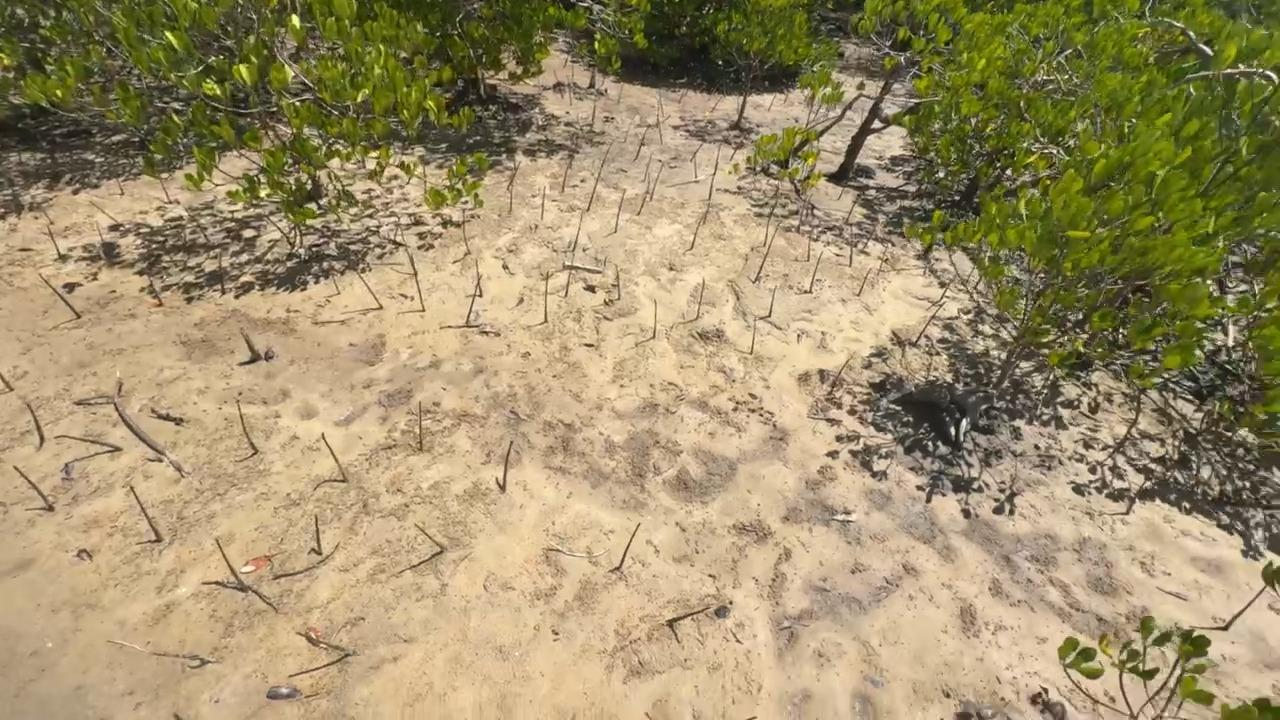Tree: (225, 173, 292, 246), (1224, 560, 1280, 631), (106, 639, 217, 663), (129, 485, 163, 543), (38, 273, 81, 318), (214, 537, 248, 593), (752, 220, 782, 283), (13, 464, 53, 511), (587, 141, 614, 210), (139, 156, 172, 204), (460, 191, 484, 254), (914, 301, 946, 344), (322, 432, 349, 482), (768, 167, 800, 208), (295, 631, 348, 655), (235, 399, 259, 452), (53, 434, 122, 451), (354, 269, 383, 309), (617, 523, 641, 569), (829, 352, 855, 394), (183, 207, 211, 242), (413, 522, 445, 551), (398, 227, 417, 274), (25, 403, 45, 447), (465, 275, 482, 324), (665, 606, 713, 623), (1125, 480, 1148, 515), (417, 154, 435, 195), (89, 200, 120, 223), (239, 326, 259, 361), (633, 123, 651, 161), (809, 250, 824, 293), (762, 205, 777, 246), (636, 172, 650, 215), (614, 187, 627, 233), (502, 441, 513, 492), (650, 161, 664, 201), (843, 196, 861, 224), (414, 271, 426, 311), (47, 224, 61, 258), (690, 216, 704, 250), (506, 161, 521, 191), (857, 267, 872, 297), (147, 277, 163, 305), (565, 253, 575, 297), (696, 277, 706, 320), (216, 250, 225, 295), (562, 157, 573, 192), (572, 215, 582, 252), (939, 278, 955, 300), (877, 245, 888, 276), (712, 143, 722, 177), (315, 514, 323, 556), (768, 285, 778, 318), (553, 70, 564, 99), (38, 203, 53, 224), (613, 263, 621, 301), (418, 401, 424, 450), (643, 154, 653, 182), (544, 270, 549, 324), (0, 373, 14, 392), (476, 258, 483, 296), (690, 143, 703, 163), (750, 318, 757, 354), (848, 223, 853, 268), (708, 174, 715, 204), (95, 220, 104, 241), (616, 81, 624, 104), (331, 274, 340, 294), (567, 77, 573, 107), (711, 96, 722, 112), (541, 186, 546, 221), (658, 88, 664, 117), (115, 176, 124, 195), (653, 298, 657, 339), (657, 119, 663, 145), (807, 232, 812, 263), (767, 95, 776, 111), (837, 186, 845, 200), (592, 100, 596, 126), (694, 157, 698, 179), (510, 184, 513, 213), (656, 99, 659, 128), (571, 63, 574, 82)
